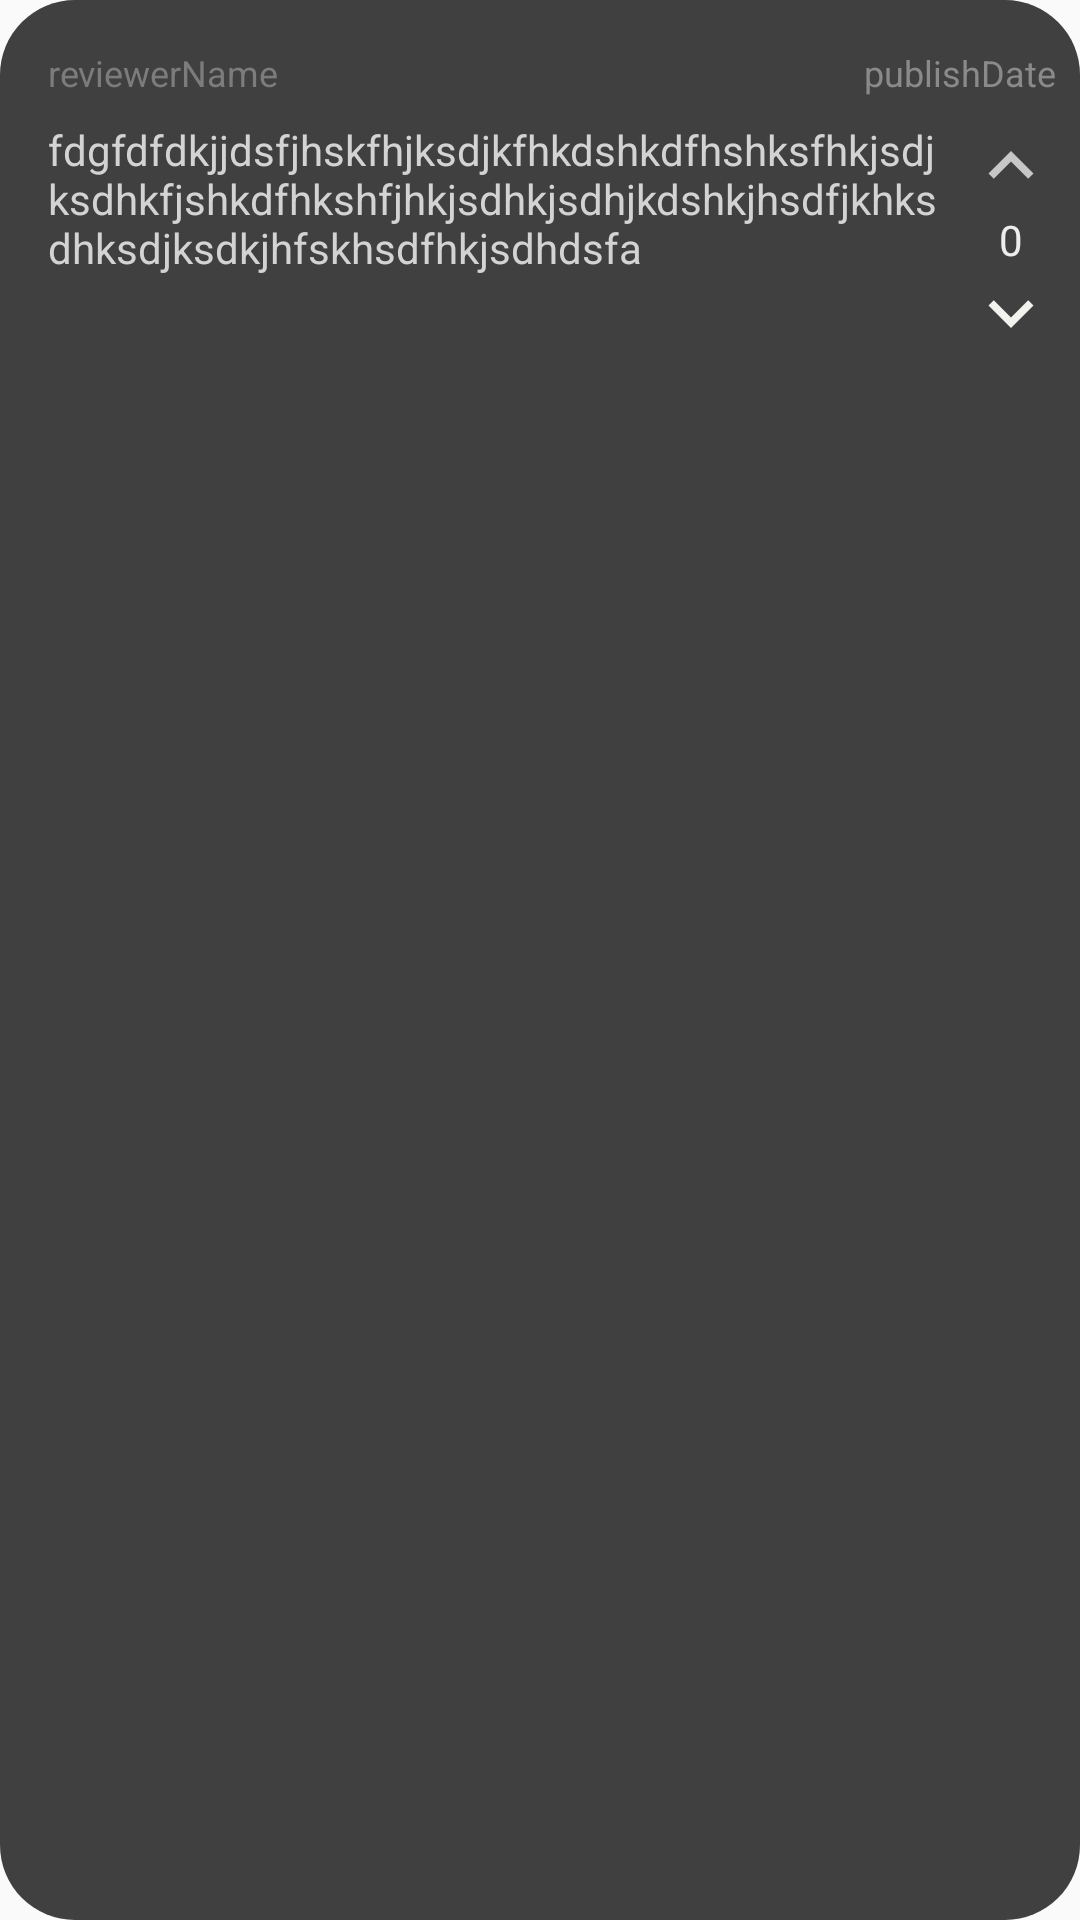

Point at icon controls on the screen. Image size 1080 x 1920, points as (x=x, y=y).
keyboard arrow down: (x=1011, y=314)
keyboard arrow up: (x=1011, y=165)
